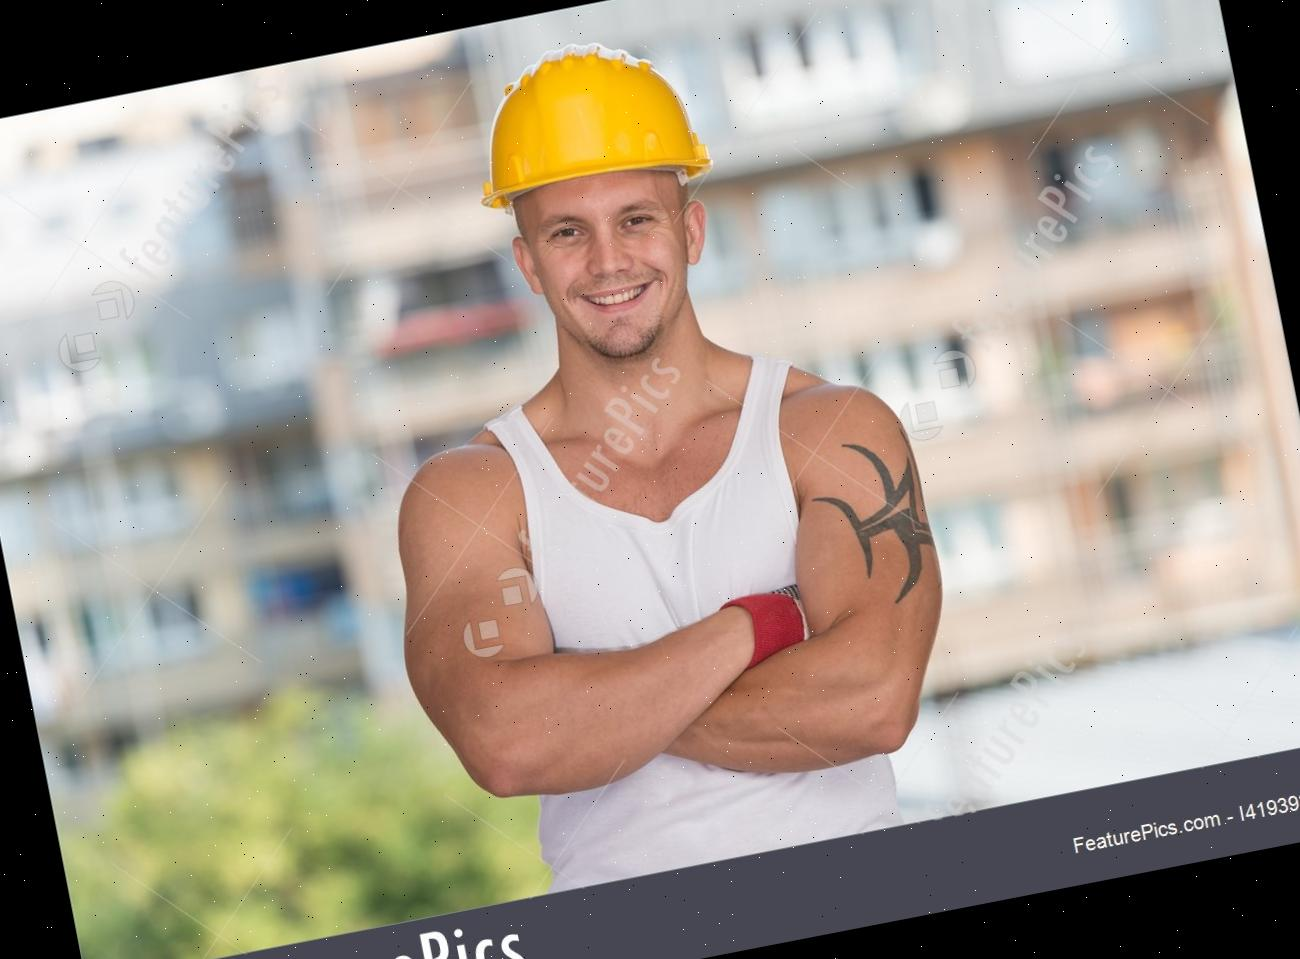helmet: (452, 21, 718, 213)
no_wear: (388, 349, 958, 905)
